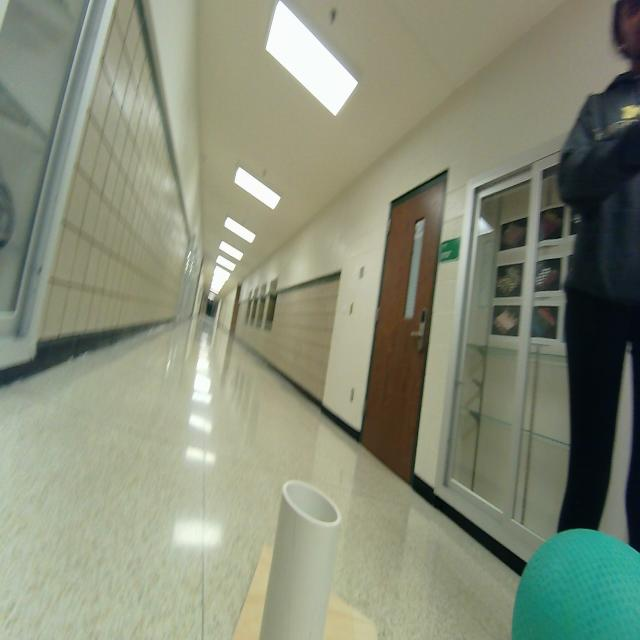algae: (508, 515, 639, 640)
coral: (254, 471, 348, 640)
